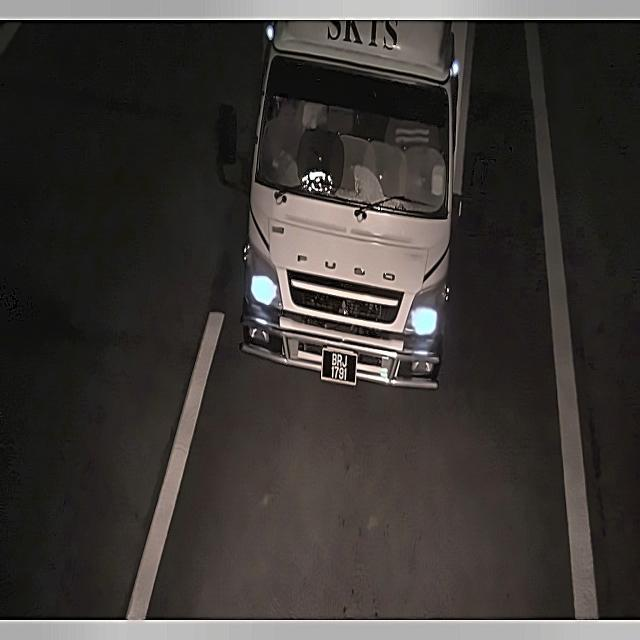car: (317, 343, 359, 392)
